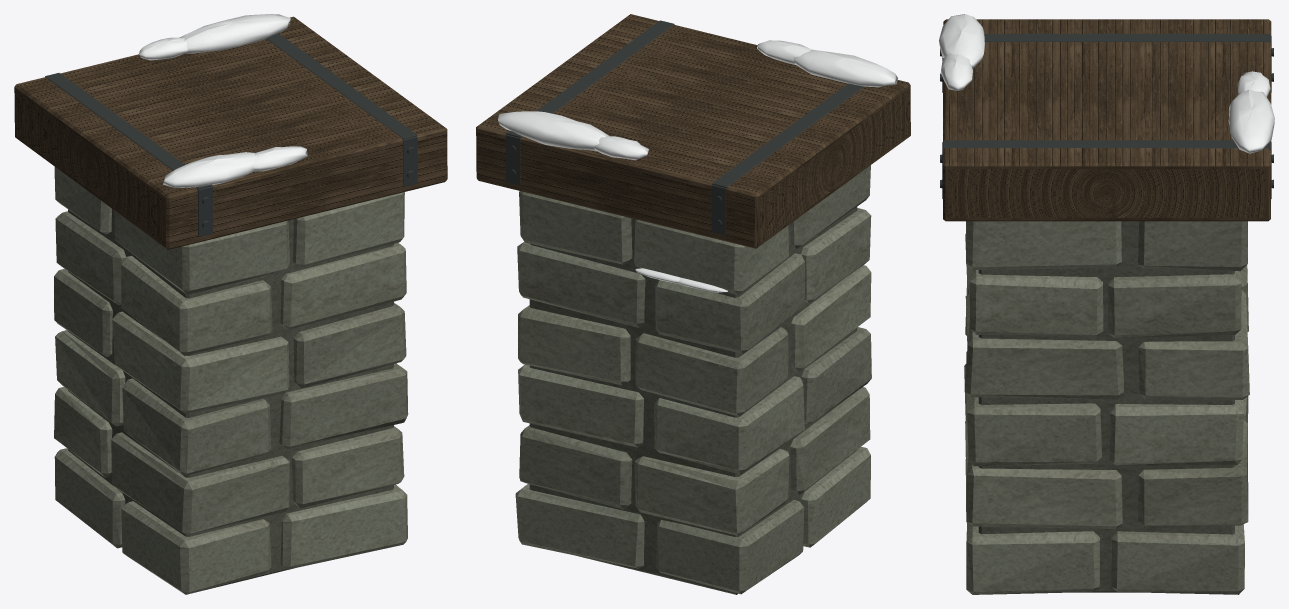
The picture shows the model from 3 angles, left to right: view 1: azimuth 30°, elevation 25°; view 2: azimuth 150°, elevation 25°; view 3: azimuth 270°, elevation 25°; orthographic projection. The views are drawn at different scales.
Parts seen in each view (by area): view 1: Mesh_DressedGraniteAndRecessedJoints, Mesh_TimberCapEndgrain, Mesh_ContactSnowPockets, Mesh_ForgedStrapsAndPins; view 2: Mesh_DressedGraniteAndRecessedJoints, Mesh_TimberCapEndgrain, Mesh_ContactSnowPockets, Mesh_ForgedStrapsAndPins; view 3: Mesh_DressedGraniteAndRecessedJoints, Mesh_TimberCapEndgrain, Mesh_ContactSnowPockets, Mesh_ForgedStrapsAndPins.
Part boxes in pixels (bbox=[...]): Mesh_DressedGraniteAndRecessedJoints: bbox=[54, 167, 408, 594]; Mesh_TimberCapEndgrain: bbox=[14, 16, 447, 249]; Mesh_ContactSnowPockets: bbox=[138, 14, 307, 187]; Mesh_ForgedStrapsAndPins: bbox=[45, 33, 417, 236]; Mesh_DressedGraniteAndRecessedJoints: bbox=[515, 165, 871, 594]; Mesh_TimberCapEndgrain: bbox=[476, 14, 910, 248]; Mesh_ContactSnowPockets: bbox=[498, 40, 898, 292]; Mesh_ForgedStrapsAndPins: bbox=[505, 20, 863, 235]; Mesh_DressedGraniteAndRecessedJoints: bbox=[964, 221, 1249, 594]; Mesh_TimberCapEndgrain: bbox=[943, 19, 1271, 221]; Mesh_ContactSnowPockets: bbox=[939, 14, 1274, 153]; Mesh_ForgedStrapsAndPins: bbox=[940, 34, 1273, 198].
Size of the model in its own units: 1.18 by 1.76 by 1.15.
Materials: 4 (3 with a texture image).
